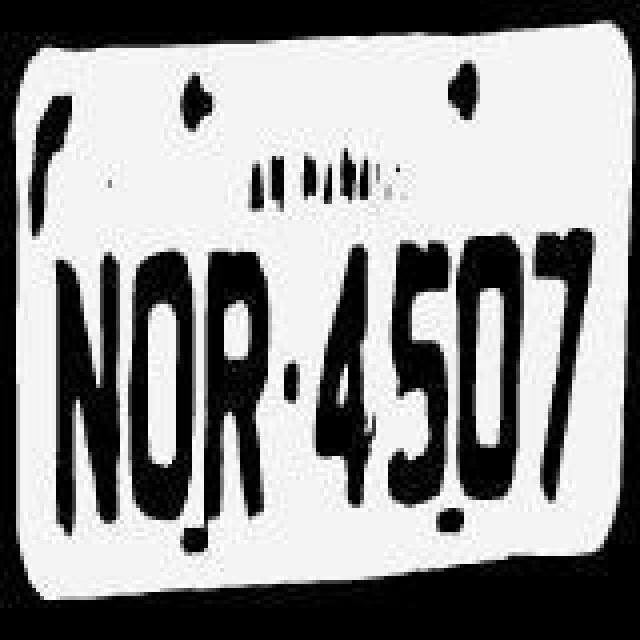4: (310, 236, 378, 516)
5: (380, 232, 452, 504)
7: (528, 222, 608, 498)
N: (48, 224, 128, 544)
O: (124, 218, 196, 526), (450, 230, 526, 506)
R: (196, 242, 284, 526)
